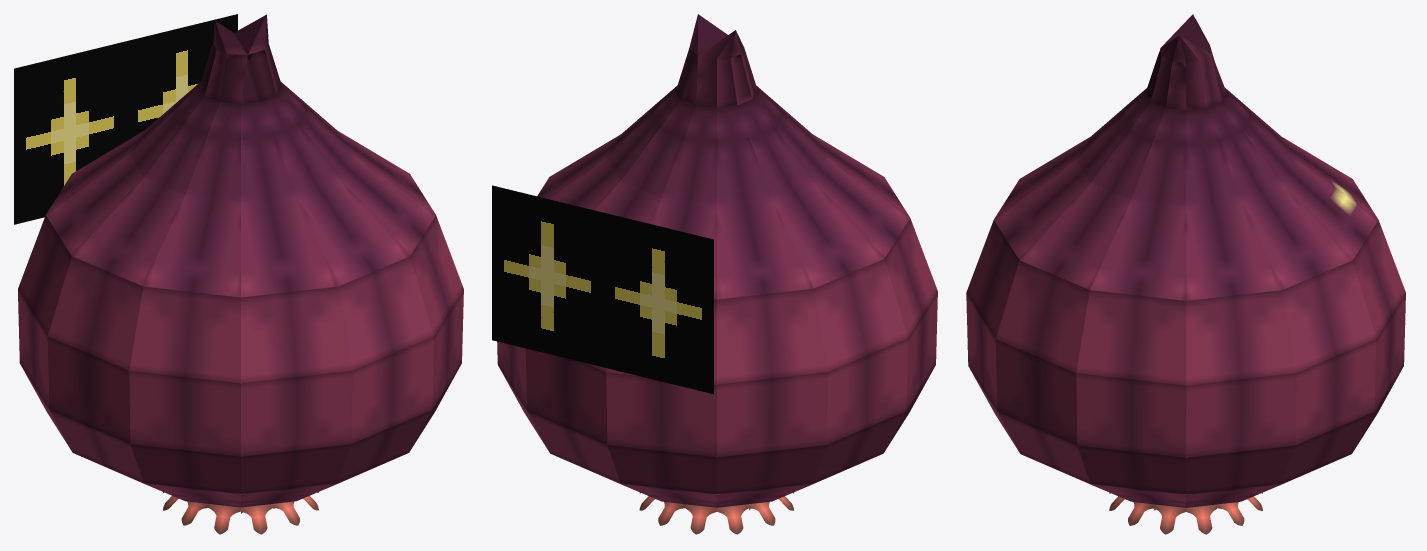
Rendered from onion.fbx.
3 renders of one model, left to right at view 1: azimuth 30°, elevation 25°; view 2: azimuth 150°, elevation 25°; view 3: azimuth 270°, elevation 25°, orthographic.
Visible parts, largest first — view 1: body, eyes; view 2: body, eyes; view 3: body.
Boxes of the visible parts, bbox=[...] form: body: bbox=[18, 14, 463, 534]; eyes: bbox=[14, 14, 237, 224]; body: bbox=[497, 14, 937, 534]; eyes: bbox=[492, 185, 713, 394]; body: bbox=[966, 14, 1405, 534].
Bounding box in the file's own units: 194 × 232 × 197.
